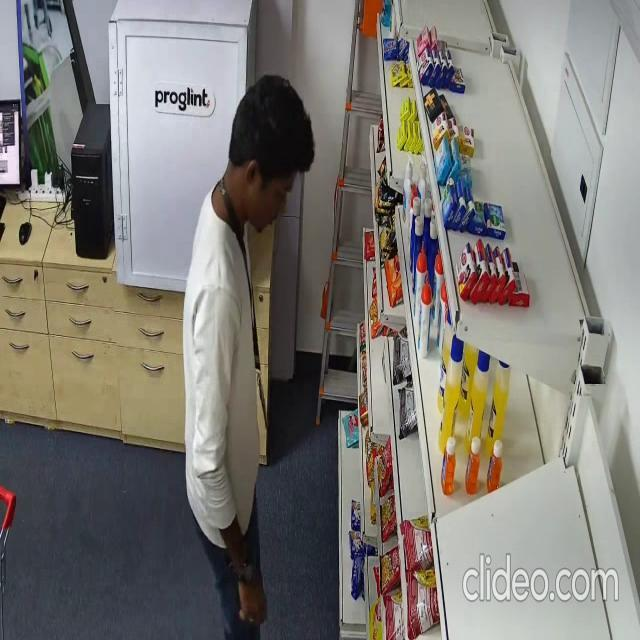normal: (182, 73, 314, 640)
